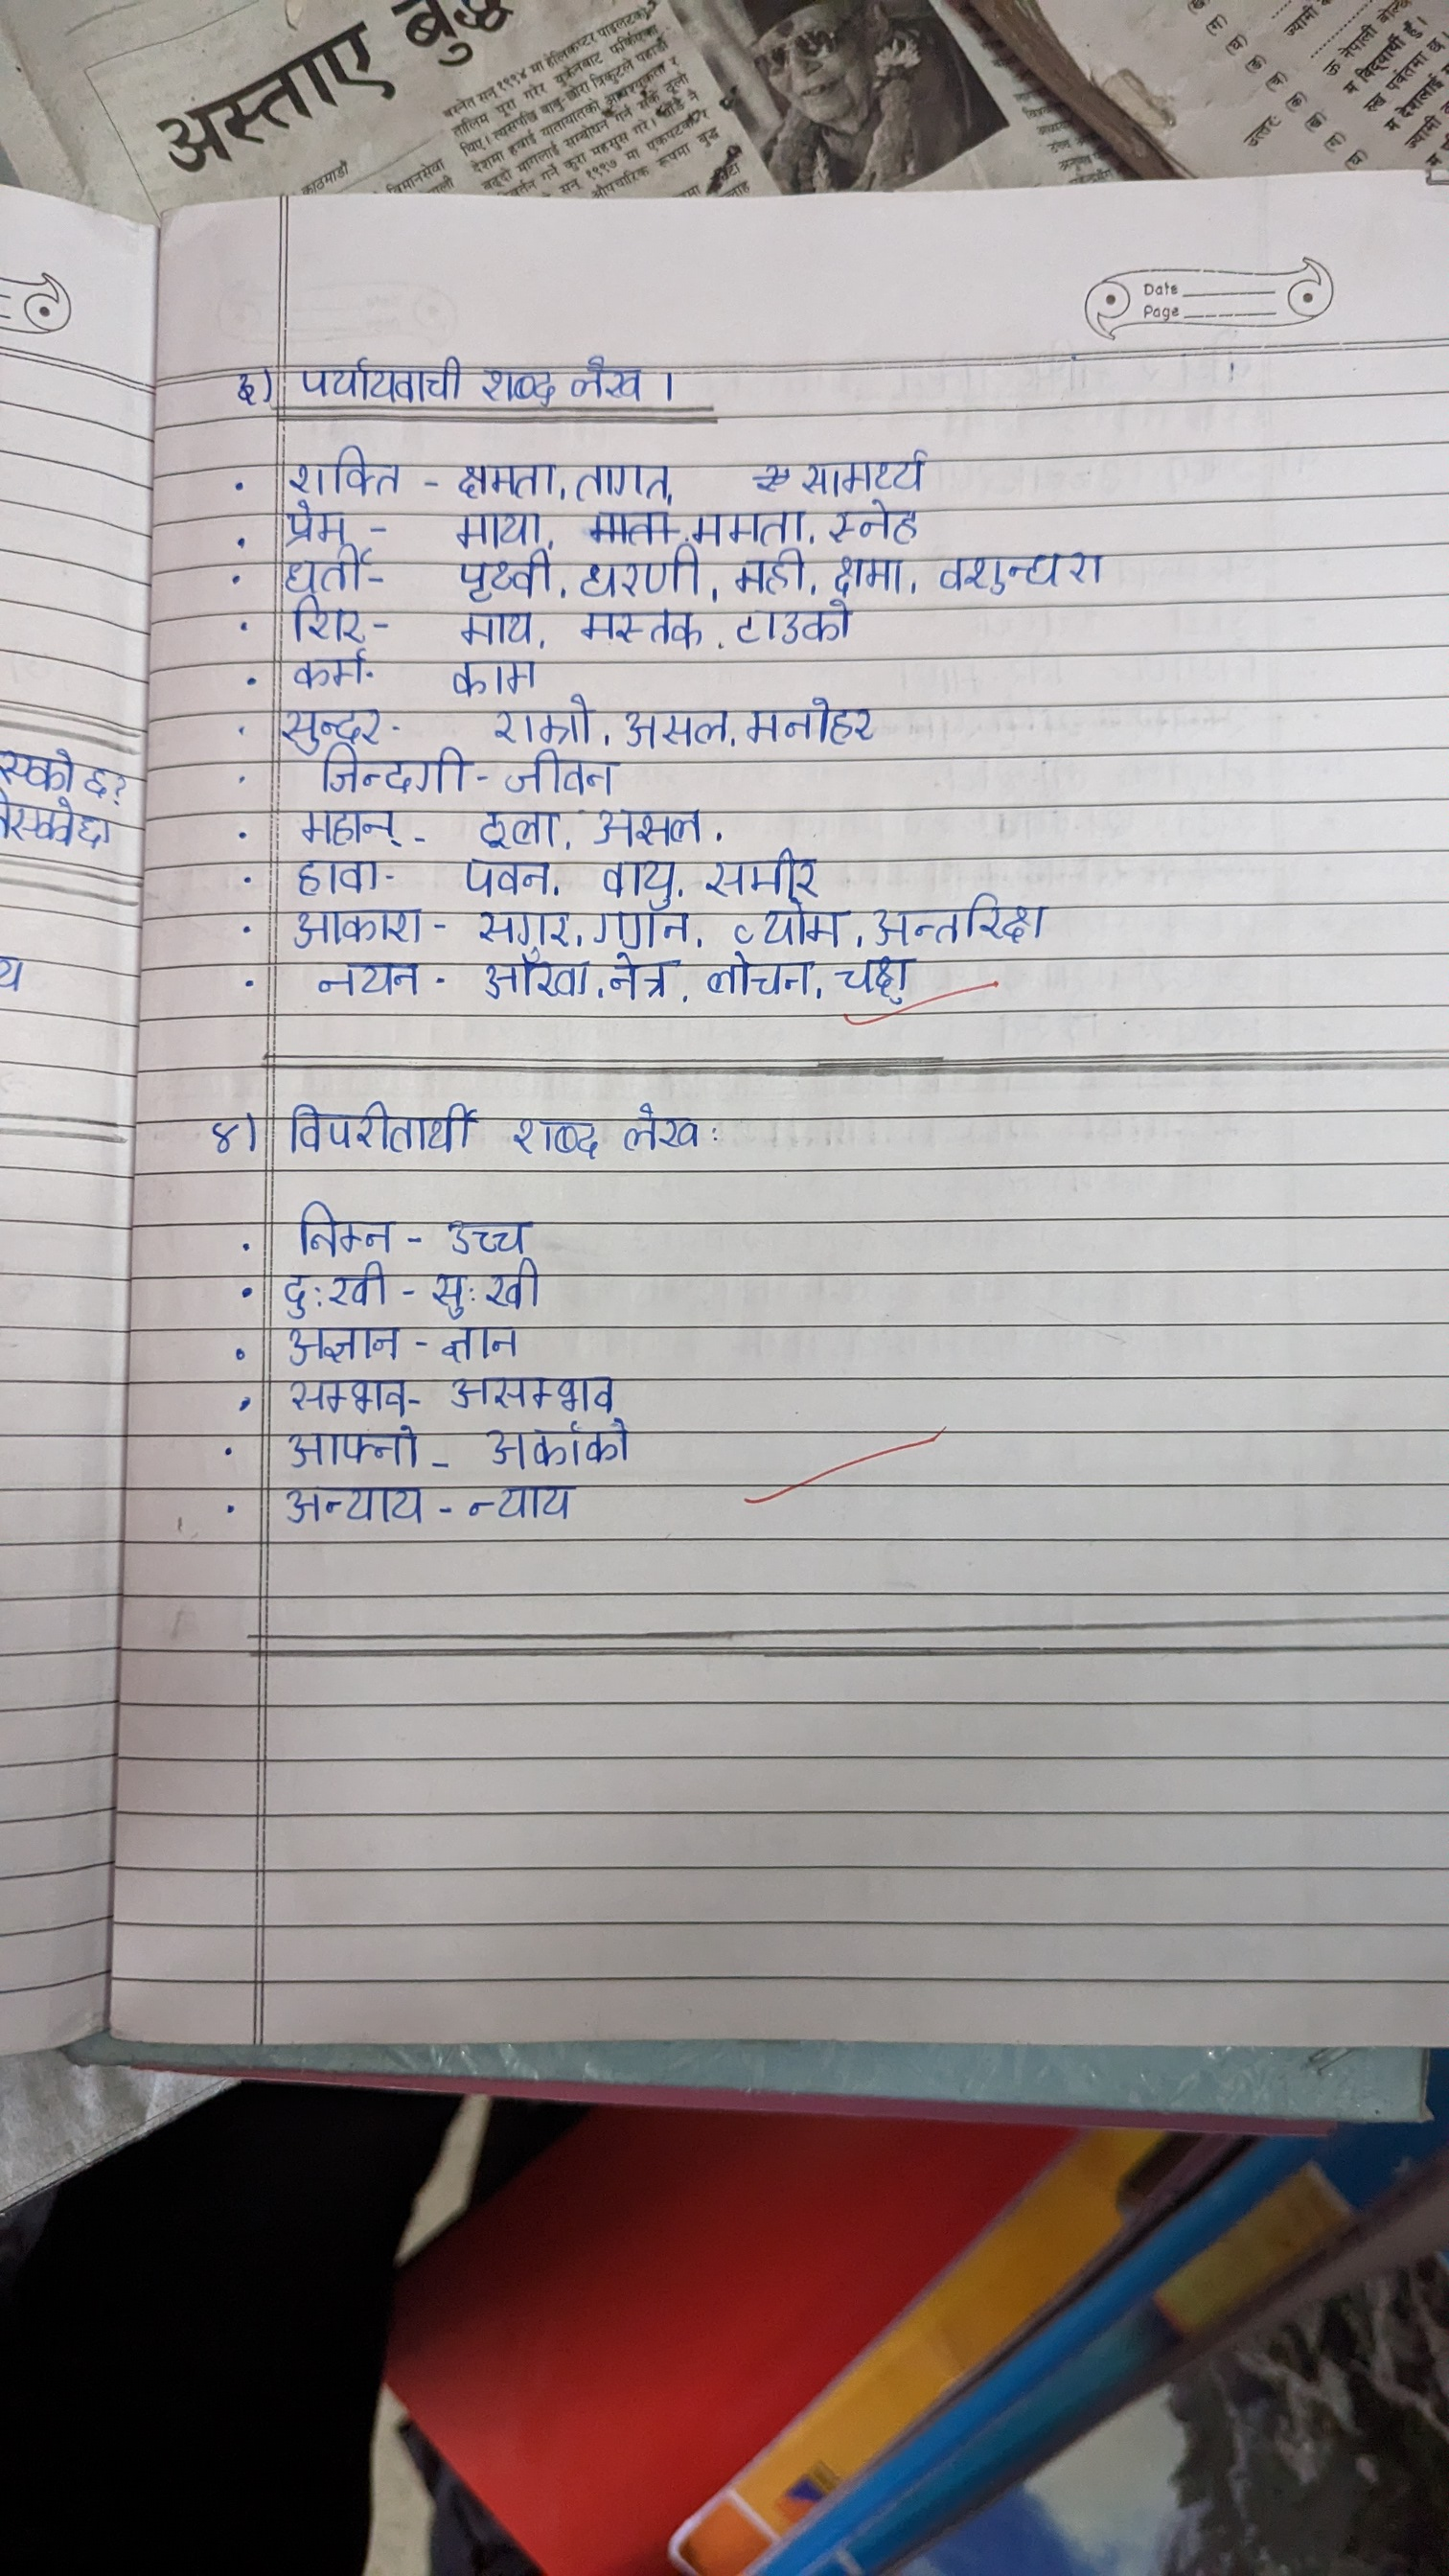text: (865, 892, 1065, 948), (287, 1099, 476, 1157), (290, 349, 469, 407), (941, 541, 1111, 602), (281, 1421, 433, 1477), (794, 433, 932, 492), (315, 745, 464, 798), (280, 439, 405, 499), (479, 1421, 635, 1467), (747, 697, 881, 750), (617, 1090, 715, 1162), (426, 1260, 550, 1316), (577, 600, 708, 653), (736, 600, 874, 649), (280, 1261, 389, 1323), (441, 1373, 621, 1410), (288, 902, 432, 948), (285, 1198, 398, 1254), (306, 955, 425, 1008), (573, 548, 704, 596), (448, 444, 557, 501), (283, 1484, 433, 1525), (499, 750, 621, 800), (478, 950, 591, 1003), (458, 1479, 584, 1525), (563, 347, 658, 407), (446, 548, 557, 600), (702, 952, 814, 1003), (508, 1108, 609, 1164), (704, 853, 832, 895), (731, 899, 842, 947), (294, 805, 414, 849), (577, 451, 671, 504), (285, 1375, 410, 1414), (488, 701, 594, 745), (593, 805, 708, 846), (616, 706, 727, 747), (692, 504, 807, 543), (280, 547, 377, 593), (824, 499, 925, 543), (280, 1329, 403, 1364), (456, 853, 557, 895), (274, 706, 389, 743), (294, 648, 382, 695), (439, 656, 547, 695), (441, 1212, 534, 1256), (285, 596, 372, 644), (481, 354, 559, 407), (835, 955, 916, 1005), (469, 908, 571, 947), (288, 856, 389, 895), (219, 349, 276, 416), (600, 856, 679, 904), (594, 908, 695, 945), (732, 547, 810, 594), (446, 510, 550, 545), (605, 952, 676, 1003), (456, 609, 543, 648), (474, 809, 561, 847), (439, 1325, 520, 1364), (278, 504, 352, 545), (832, 552, 904, 593), (203, 1122, 251, 1168)
